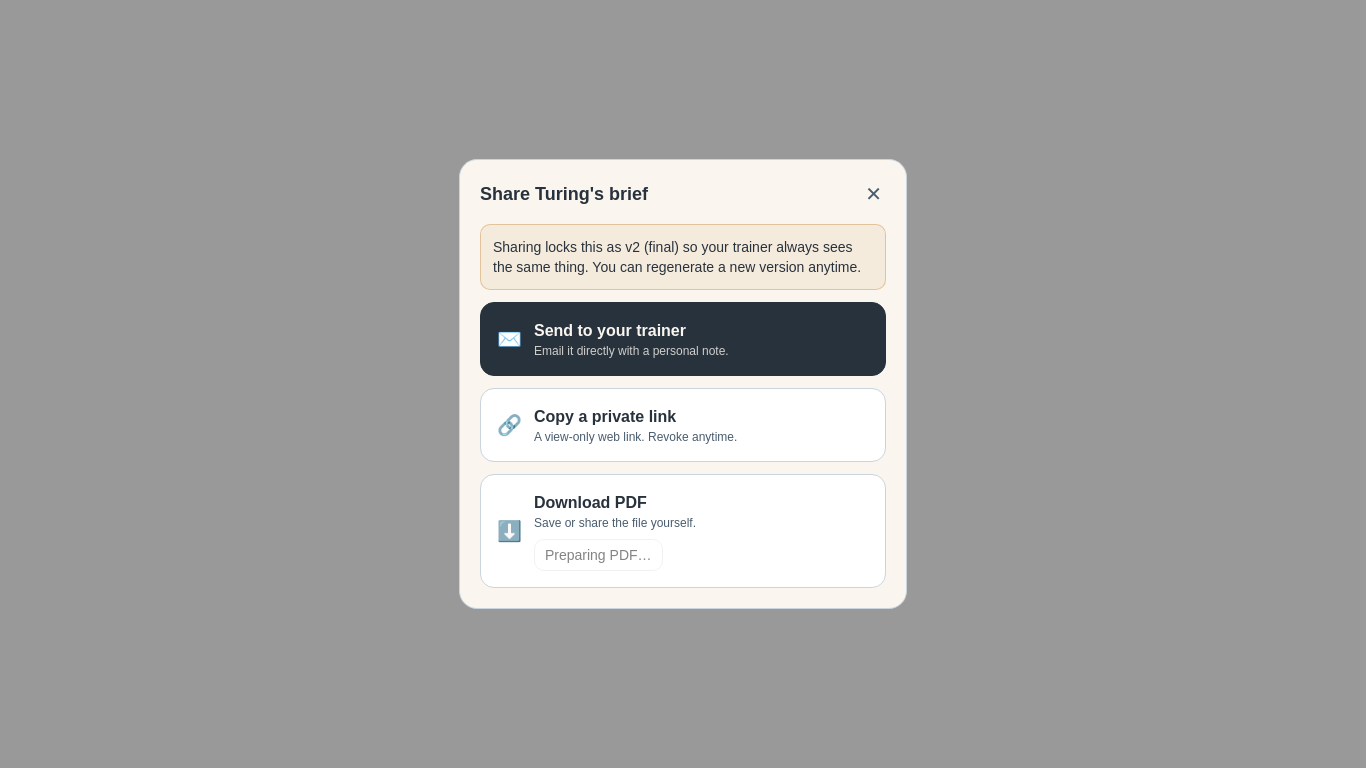
Test: BriefShareSheet › finalizes a draft exactly once before rendering the email panel
The image size is (1366, 768).
Click the button "Send to your trainer" at (683, 339), box [480,302,886,376]
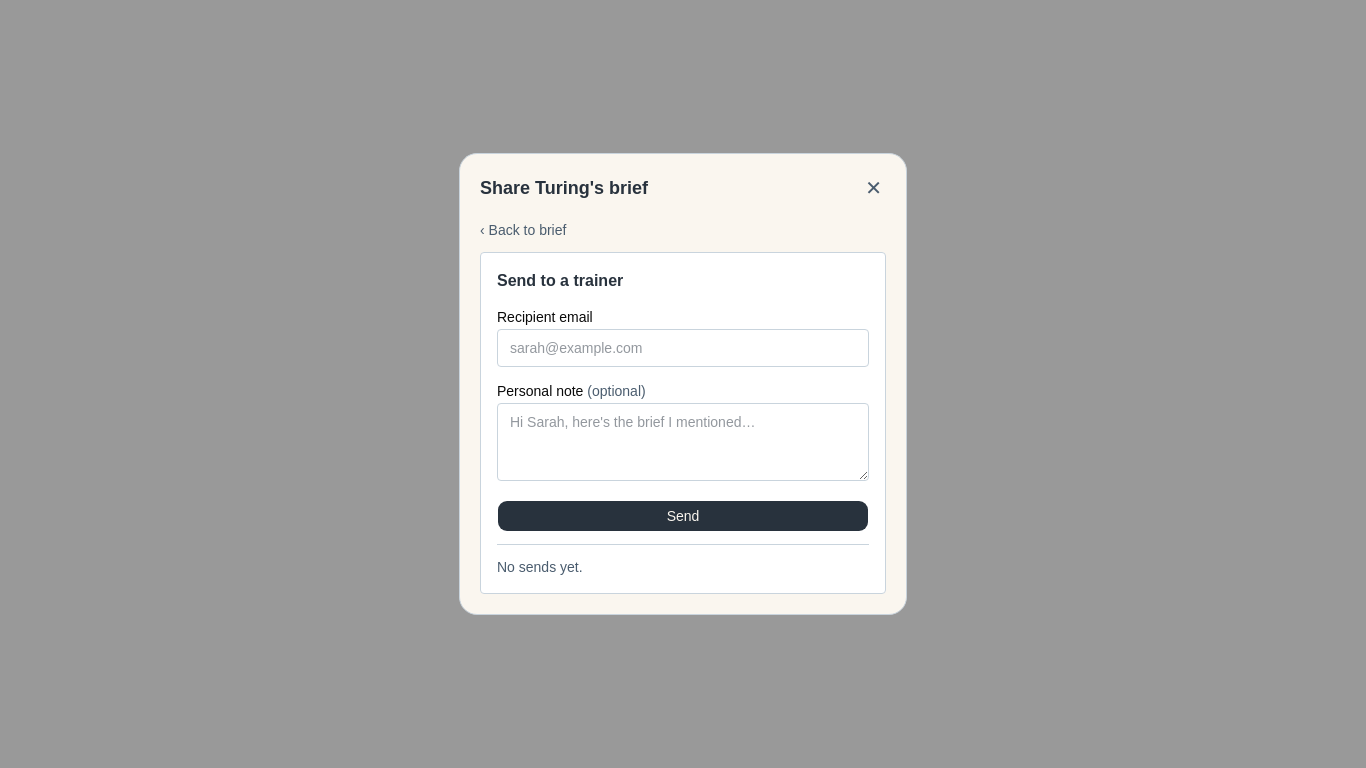
Expected: the heading "Send to a trainer" is shown, [497,272,623,289]
Expected: the text "No sends yet." is shown, [497,544,869,577]
